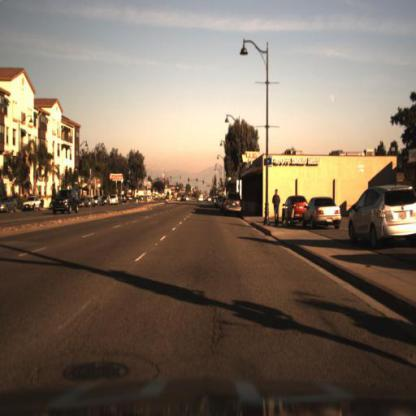car: (349, 185, 416, 251), (301, 194, 344, 235), (49, 189, 81, 217), (280, 196, 305, 227), (223, 188, 245, 219), (24, 197, 43, 214)
pedestrian: (271, 185, 282, 232)
